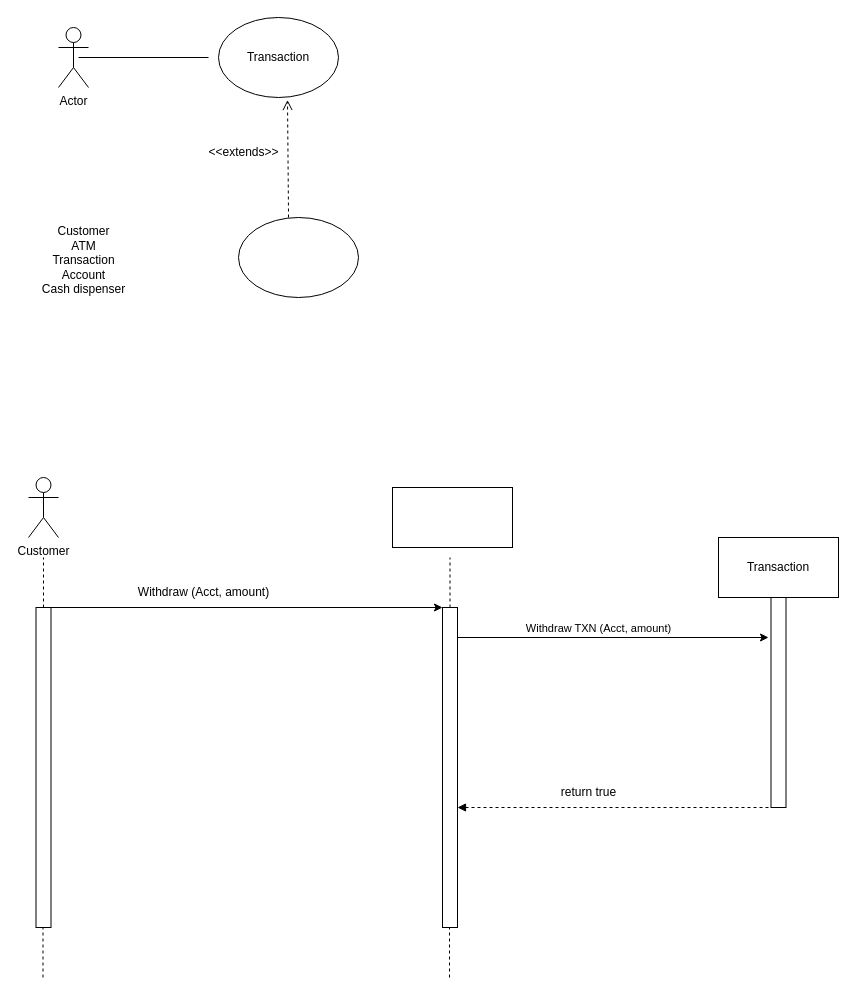
Image size: 856x996. Some labels were removed from this diagram. The shapes that lost their labels are listed below. From the top down, each one's centre as x and y in pixels, then its label:
At point 298,257: "Cash Withdrawal".
At point 452,517: "ATM".
